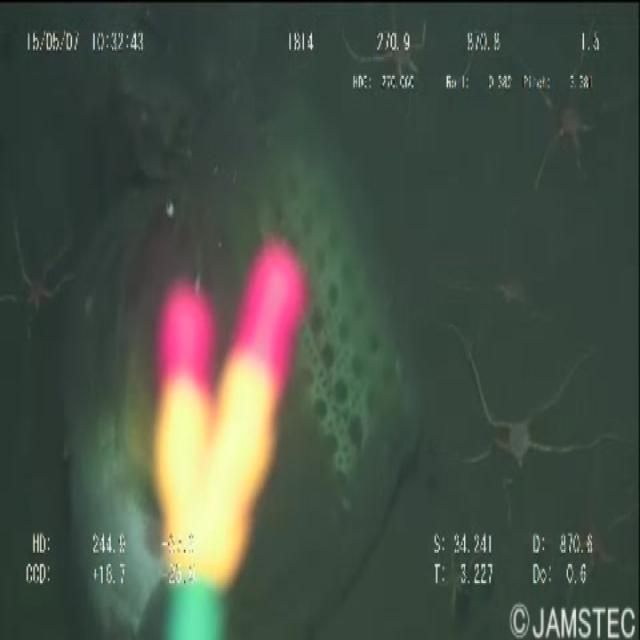Litter: (56, 59, 463, 640)
